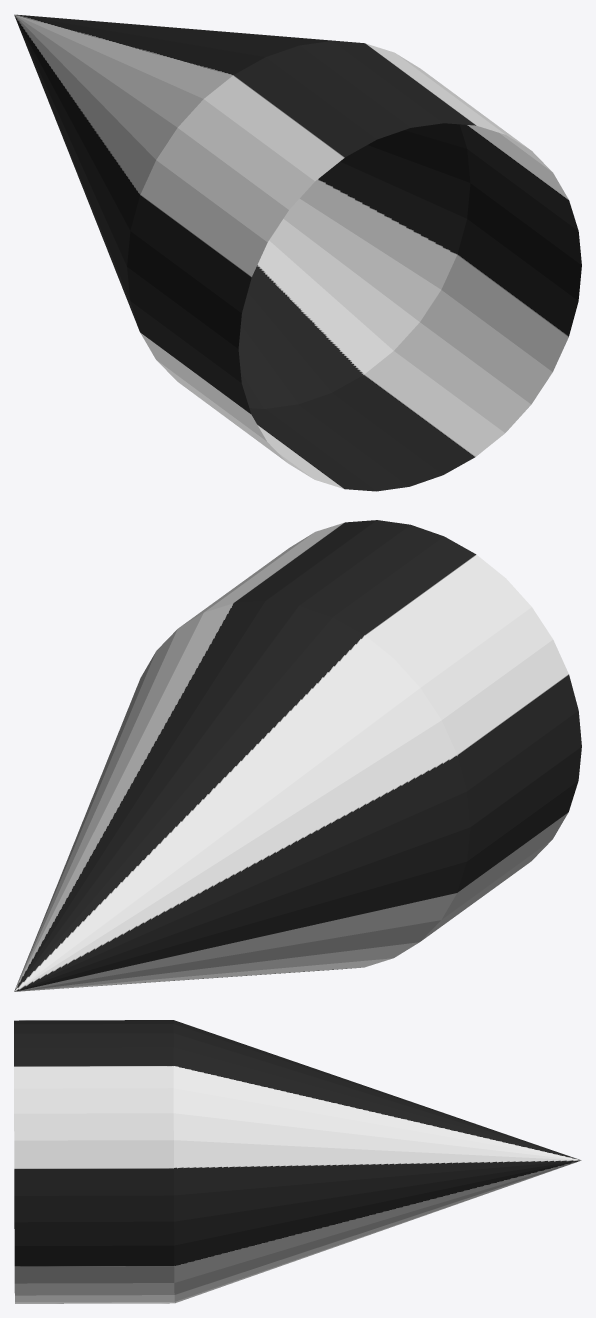
File: Fairing.fbx
3 renders of one model, top to bottom at view 1: azimuth 30°, elevation 25°; view 2: azimuth 150°, elevation 25°; view 3: azimuth 270°, elevation 25°, orthographic. The views are drawn at different scales.
Parts seen in each view (by area): view 1: Fairing; view 2: Fairing; view 3: Fairing.
Part boxes in pixels (x1=…): Fairing: x1=14, y1=14, x2=581, y2=491; Fairing: x1=14, y1=520, x2=581, y2=991; Fairing: x1=14, y1=1020, x2=581, y2=1303.
Size of the model in its own units: 2 by 2 by 4.
